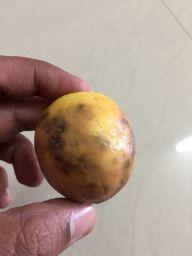lemon: (34, 88, 137, 207)
